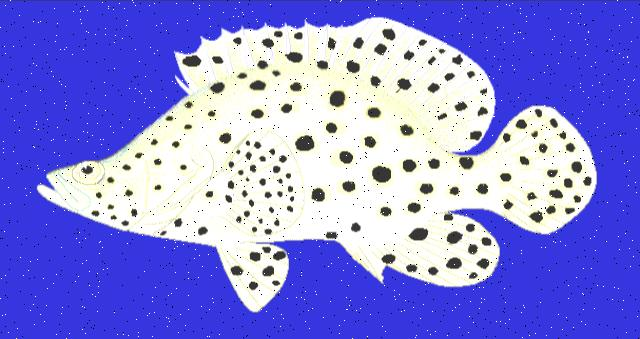Mulut: (23, 154, 88, 217)
Sirip Anal: (338, 211, 500, 289)
Sirip Dada: (213, 125, 307, 241)
Sirip Ekor: (491, 99, 599, 238)
Sirip Perut: (214, 234, 292, 318)
Sirip Punggung: (165, 7, 501, 159)
